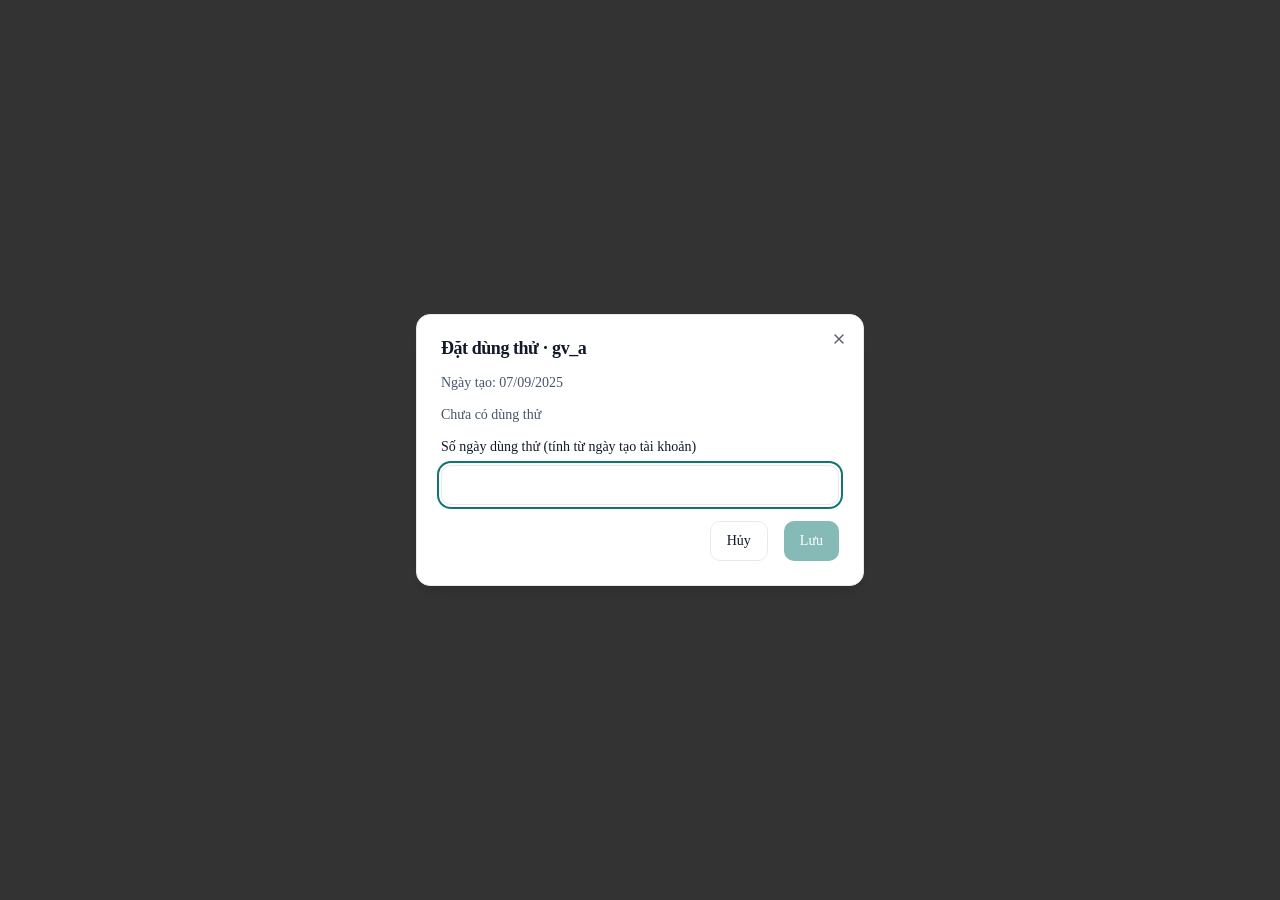
Scenario: TrialDaysDialog › Review Focus 4: tài khoản cũ chưa có dùng thử, tạo 400 ngày trước; gõ 90 → báo hạn đã qua, vẫn cho Lưu
Type "90" into the field named "Số ngày dùng thử (tính từ ngày tạo tài khoản)" at (640, 485), box 441,465 -> 839,505
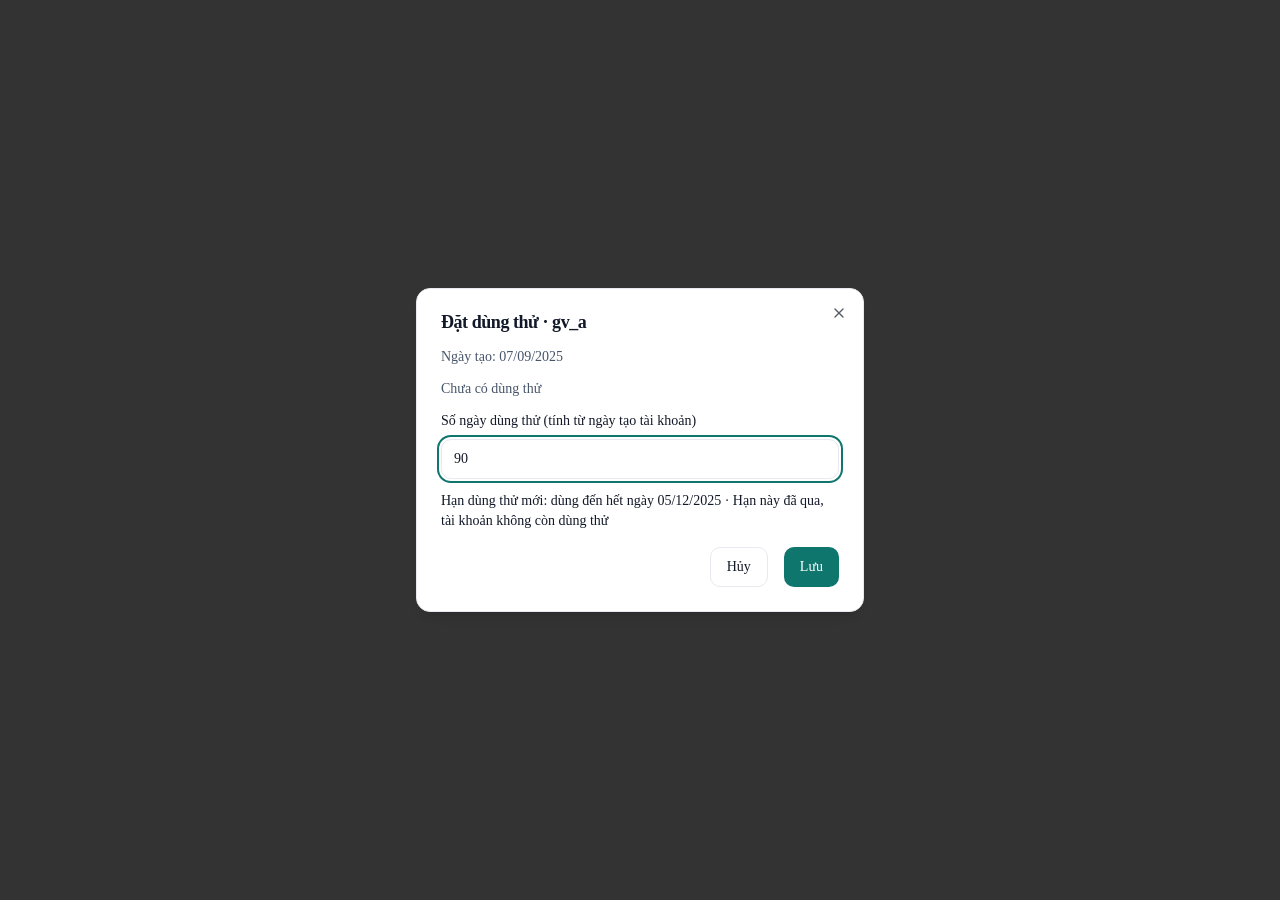
Expected: the text with test id "trial-preview" shows "Hạn này đã qua, tài khoản không còn dùng thử", 441,493 -> 824,528
Expected: the button "Lưu" is enabled, 784,547 -> 839,587
